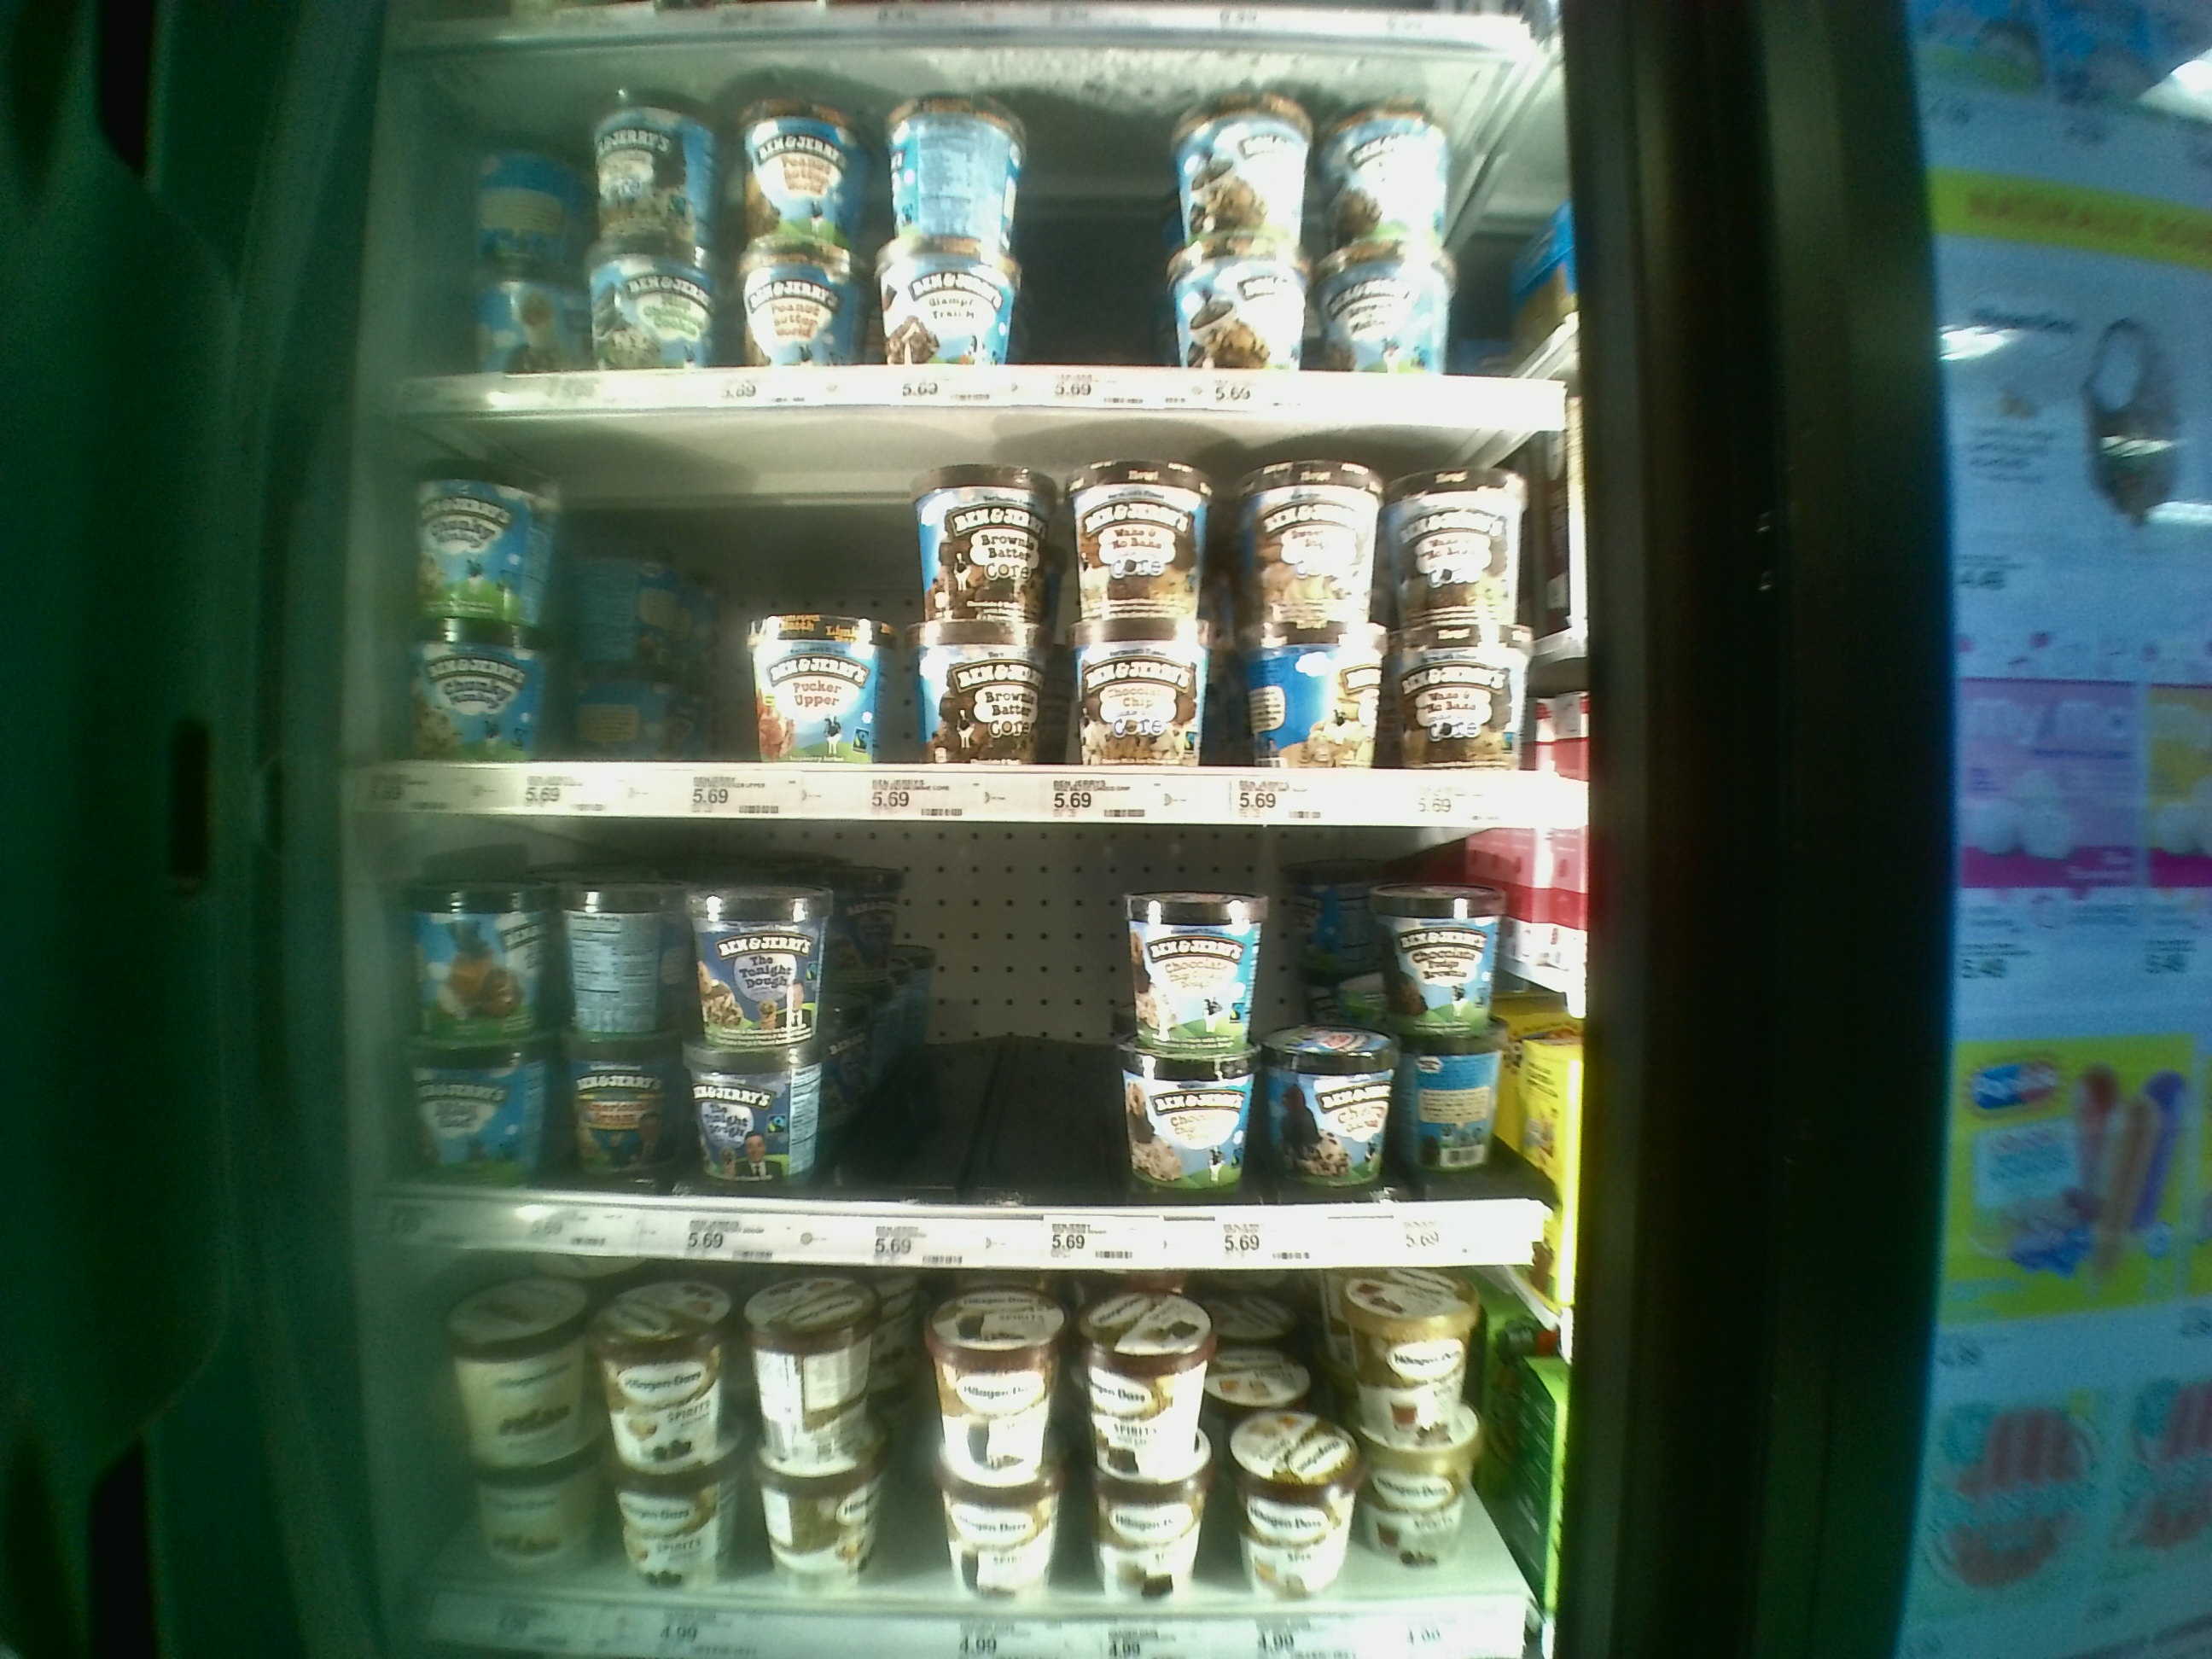ice-cream-shelf: (366, 819, 1575, 1263), (381, 413, 1581, 824), (371, 1251, 1550, 1659), (392, 51, 1578, 413)
